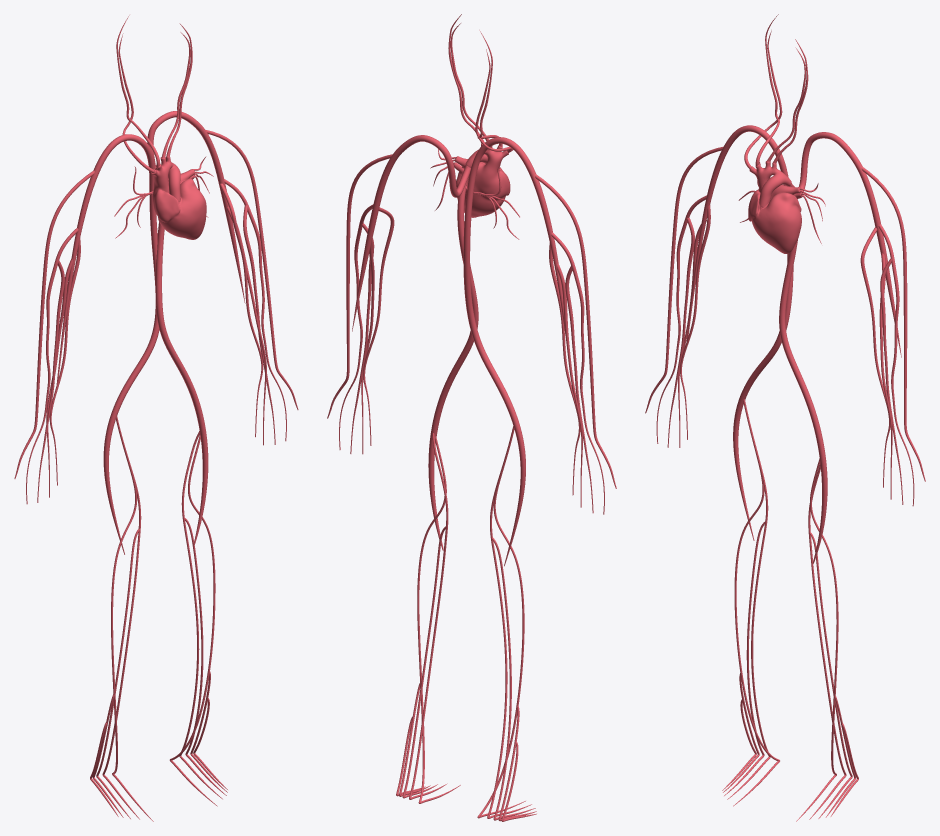
The model's file is SisCardiovascular.glb.
3 renders of one model, left to right at view 1: azimuth 30°, elevation 25°; view 2: azimuth 150°, elevation 25°; view 3: azimuth 330°, elevation 25°, orthographic. The views are drawn at different scales.
Parts seen in each view (by area): view 1: VenaCavaArteriaAorta, Corazon, ArteriaFemoralIzq, NurbsPath.002, Subclava, Brazo1, Brazo1.009, NurbsPath.005, NurbsPath, NurbsPath.001, NurbsPath.006, Brazo1.001 (+9 smaller); view 2: VenaCavaArteriaAorta, Corazon, ArteriaFemoralIzq, Subclava, NurbsPath.002, Brazo1, NurbsPath.006, NurbsPath, Brazo1.009, NurbsPath.001, NurbsPath.005, Brazo1.001 (+9 smaller); view 3: Corazon, VenaCavaArteriaAorta, ArteriaFemoralIzq, Subclava, NurbsPath.002, Brazo1.009, Brazo1, NurbsPath.001, NurbsPath, NurbsPath.005, NurbsPath.006, Brazo1.008 (+8 smaller).
Boxes of the visible parts, x1=… form: VenaCavaArteriaAorta: x1=56, y1=134, x2=159, y2=554; Corazon: x1=151, y1=156, x2=206, y2=239; ArteriaFemoralIzq: x1=155, y1=222, x2=208, y2=546; NurbsPath.002: x1=96, y1=518, x2=226, y2=818; Subclava: x1=147, y1=111, x2=245, y2=303; Brazo1: x1=14, y1=170, x2=94, y2=478; Brazo1.009: x1=205, y1=130, x2=298, y2=409; NurbsPath.005: x1=169, y1=434, x2=217, y2=806; NurbsPath: x1=111, y1=417, x2=153, y2=821; NurbsPath.001: x1=102, y1=416, x2=141, y2=819; NurbsPath.006: x1=179, y1=431, x2=222, y2=799; Brazo1.001: x1=26, y1=228, x2=78, y2=504; VenaCavaArteriaAorta: x1=463, y1=137, x2=573, y2=566; Corazon: x1=453, y1=143, x2=510, y2=217; ArteriaFemoralIzq: x1=428, y1=165, x2=478, y2=550; Subclava: x1=352, y1=135, x2=470, y2=331; NurbsPath.002: x1=402, y1=526, x2=535, y2=820; Brazo1: x1=535, y1=174, x2=616, y2=488; NurbsPath.006: x1=409, y1=433, x2=448, y2=799; NurbsPath: x1=477, y1=427, x2=525, y2=818; Brazo1.009: x1=327, y1=154, x2=392, y2=418; NurbsPath.001: x1=487, y1=426, x2=531, y2=818; NurbsPath.005: x1=417, y1=436, x2=460, y2=803; Brazo1.001: x1=551, y1=233, x2=604, y2=514; Corazon: x1=748, y1=161, x2=802, y2=253; VenaCavaArteriaAorta: x1=686, y1=125, x2=793, y2=540; ArteriaFemoralIzq: x1=779, y1=183, x2=827, y2=563; Subclava: x1=786, y1=132, x2=901, y2=357; NurbsPath.002: x1=724, y1=521, x2=852, y2=818; Brazo1.009: x1=861, y1=166, x2=925, y2=481; Brazo1: x1=645, y1=146, x2=723, y2=413; NurbsPath.001: x1=727, y1=399, x2=770, y2=799; NurbsPath: x1=733, y1=400, x2=779, y2=806; NurbsPath.005: x1=796, y1=458, x2=838, y2=821; NurbsPath.006: x1=808, y1=464, x2=846, y2=819; Brazo1.008: x1=878, y1=224, x2=914, y2=506.
Bounding box in the file's own units: 1.78 × 4.68 × 0.5065.
